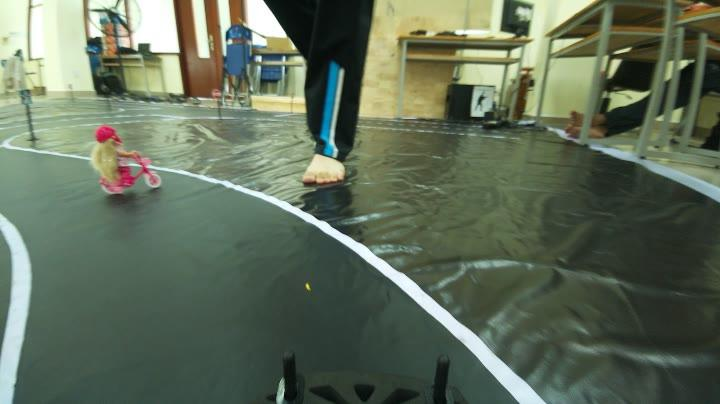pedestrian: (89, 128, 163, 195)
